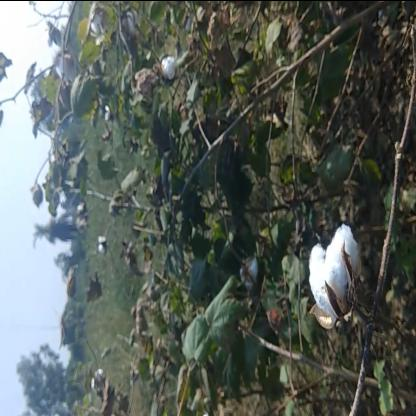cotton_ready: (292, 190, 368, 336)
